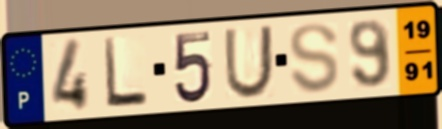4: (49, 35, 93, 116)
5: (172, 29, 213, 104)
9: (346, 17, 394, 91)
L: (101, 35, 151, 111)
S: (287, 20, 342, 96)
U: (222, 23, 276, 101)
